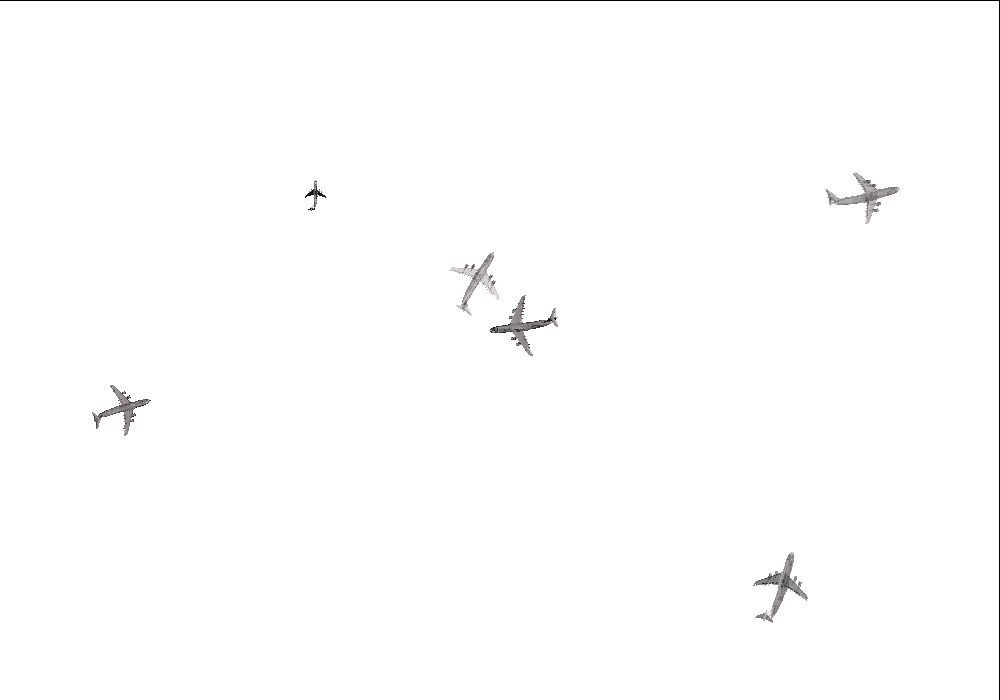plane: (432, 236, 523, 327), (736, 541, 821, 632), (819, 152, 907, 234), (484, 286, 563, 361), (83, 374, 158, 447), (300, 179, 327, 210)
